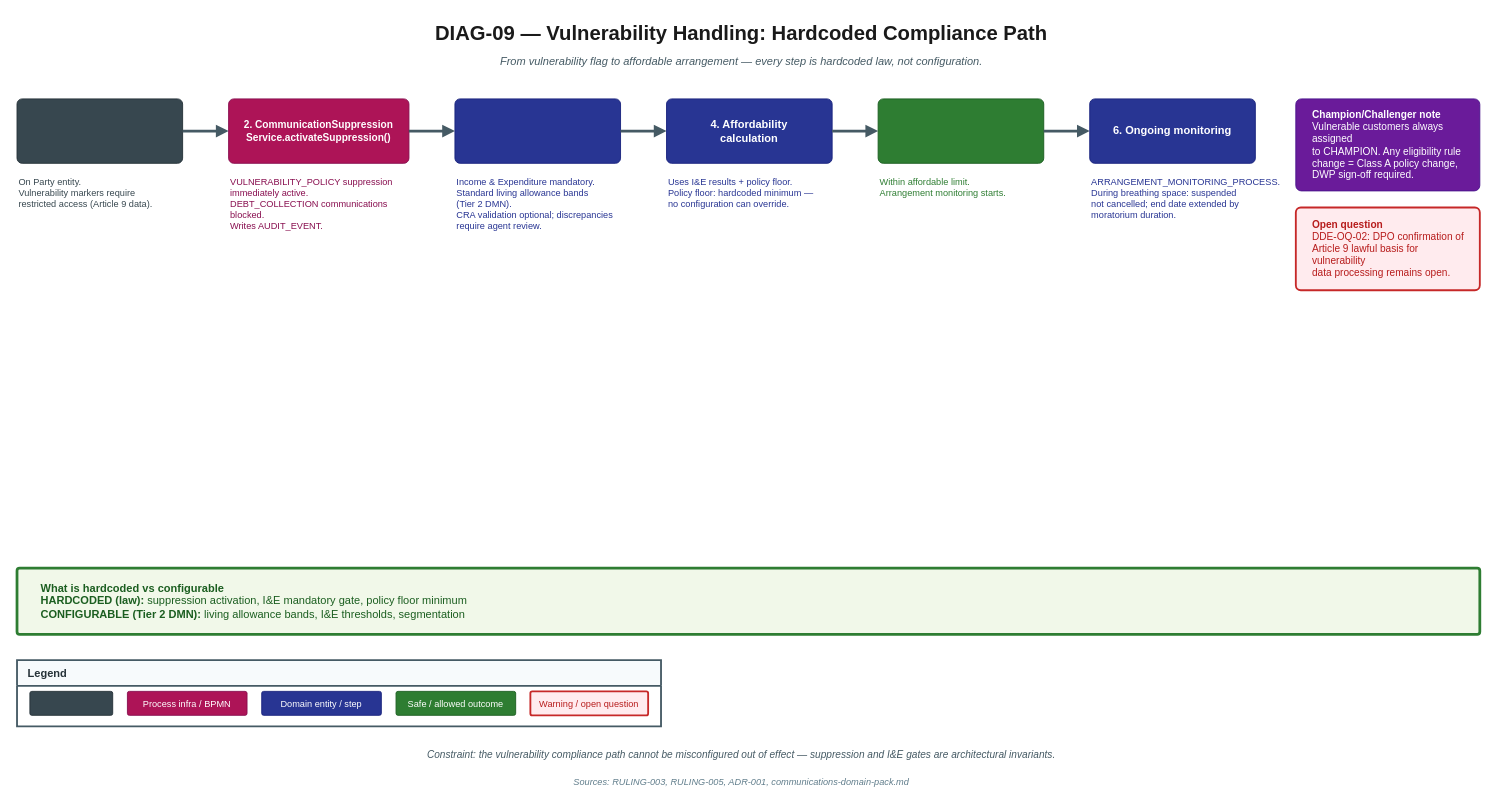
The diagram is 1497 pixels wide and 806 high, and some of its shapes have lost their labels. The centre of each missing label's shape, as x and y in pixels:
1. Agent sets vulnerability flag: point (99, 130)
3. I&E assessment: point (537, 130)
5. Repayment arrangement created: point (960, 130)
Actor: point (71, 702)
